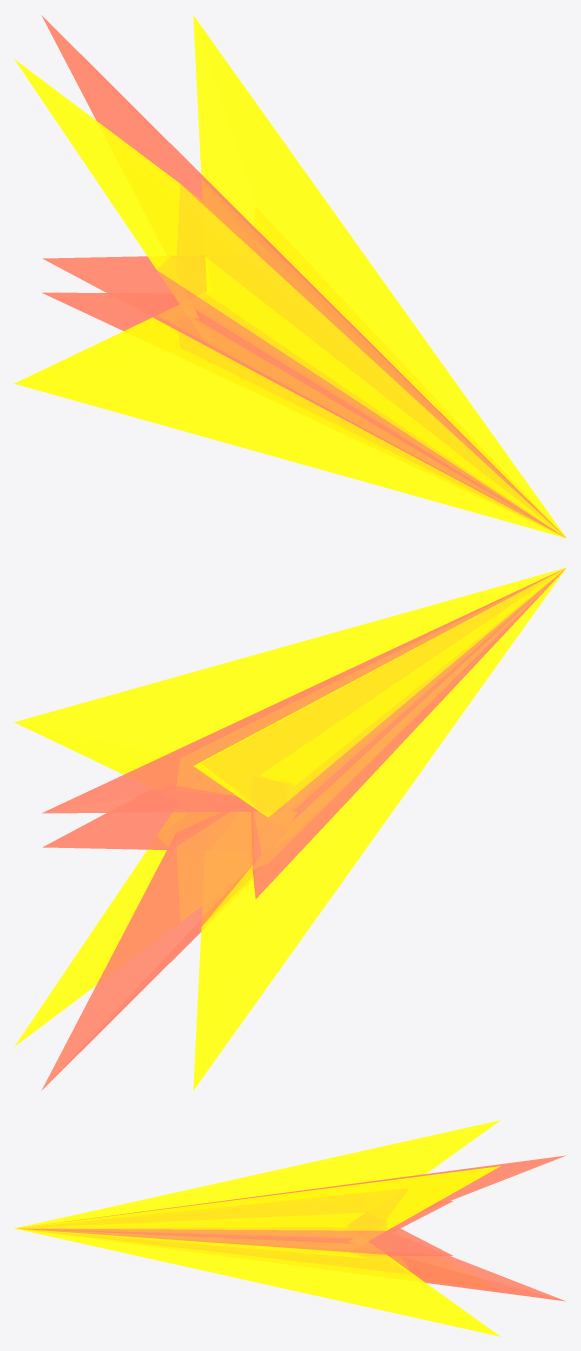
The model's file is igniteArrow.fbx.
3 views of the same model, one above another, from view 1: azimuth 30°, elevation 25°; view 2: azimuth 150°, elevation 25°; view 3: azimuth 270°, elevation 25° (orthographic). The views are drawn at different scales.
Parts seen in each view (by area): view 1: arrowMesh; view 2: arrowMesh; view 3: arrowMesh.
Part boxes in pixels (left/top/right/bottom): arrowMesh: left=14, top=15, right=566, bottom=538; arrowMesh: left=14, top=567, right=566, bottom=1090; arrowMesh: left=14, top=1120, right=565, bottom=1336.
Size of the model in its own units: 78.01 by 113 by 333.
